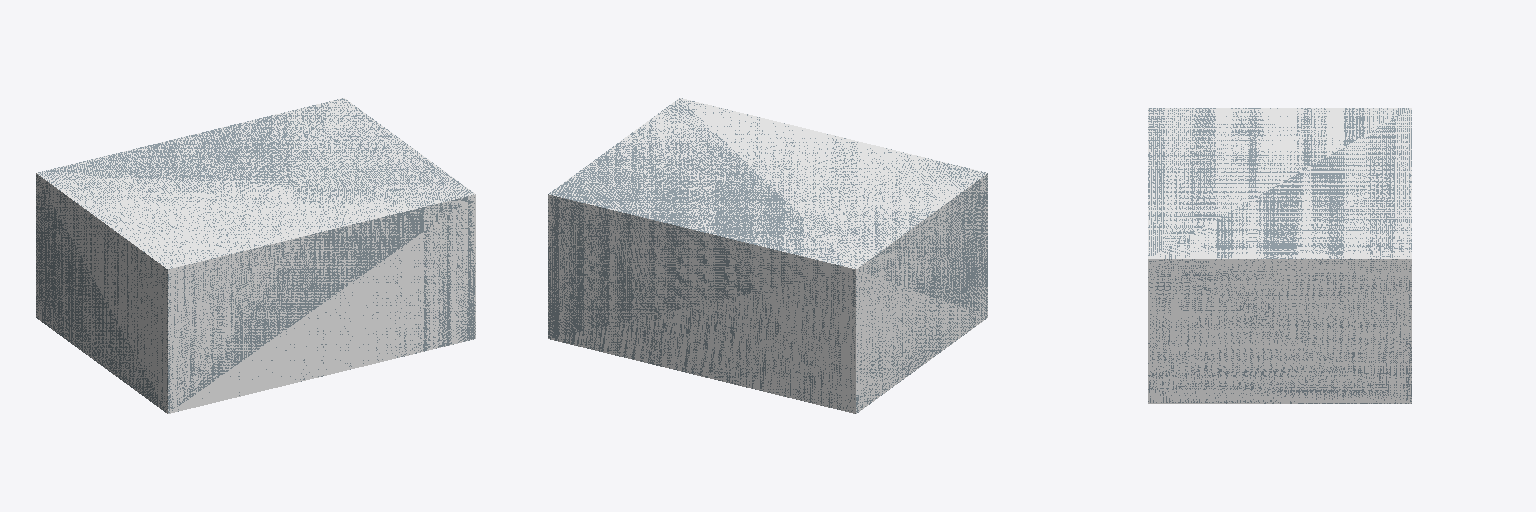
Rendered from testRoom.obj.
The picture shows the model from 3 angles: view 1: azimuth 30°, elevation 25°; view 2: azimuth 150°, elevation 25°; view 3: azimuth 270°, elevation 25°; orthographic projection.
Parts seen in each view (by area): view 1: Mesh1 Model; view 2: Mesh1 Model; view 3: Mesh1 Model.
Boxes of the visible parts, x1=… form: Mesh1 Model: x1=36, y1=98, x2=475, y2=413; Mesh1 Model: x1=548, y1=98, x2=987, y2=413; Mesh1 Model: x1=1148, y1=108, x2=1411, y2=403.
Bounding box in the file's own units: 19.62 × 8.8 × 14.54.